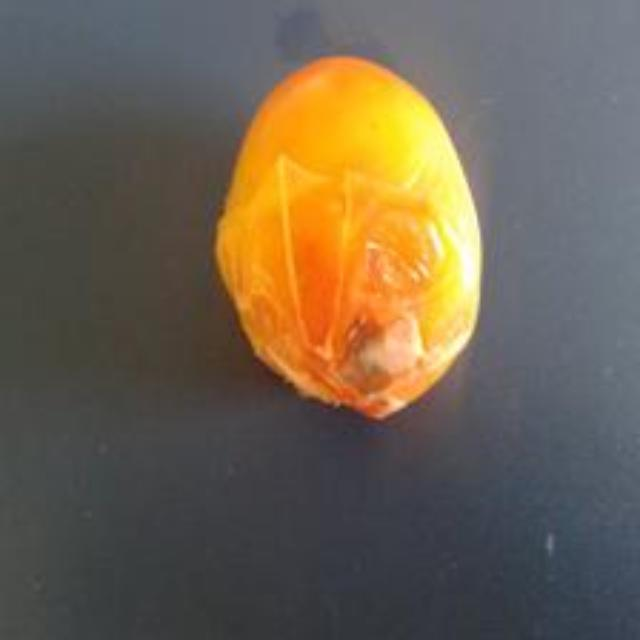defect: (212, 46, 487, 421)
